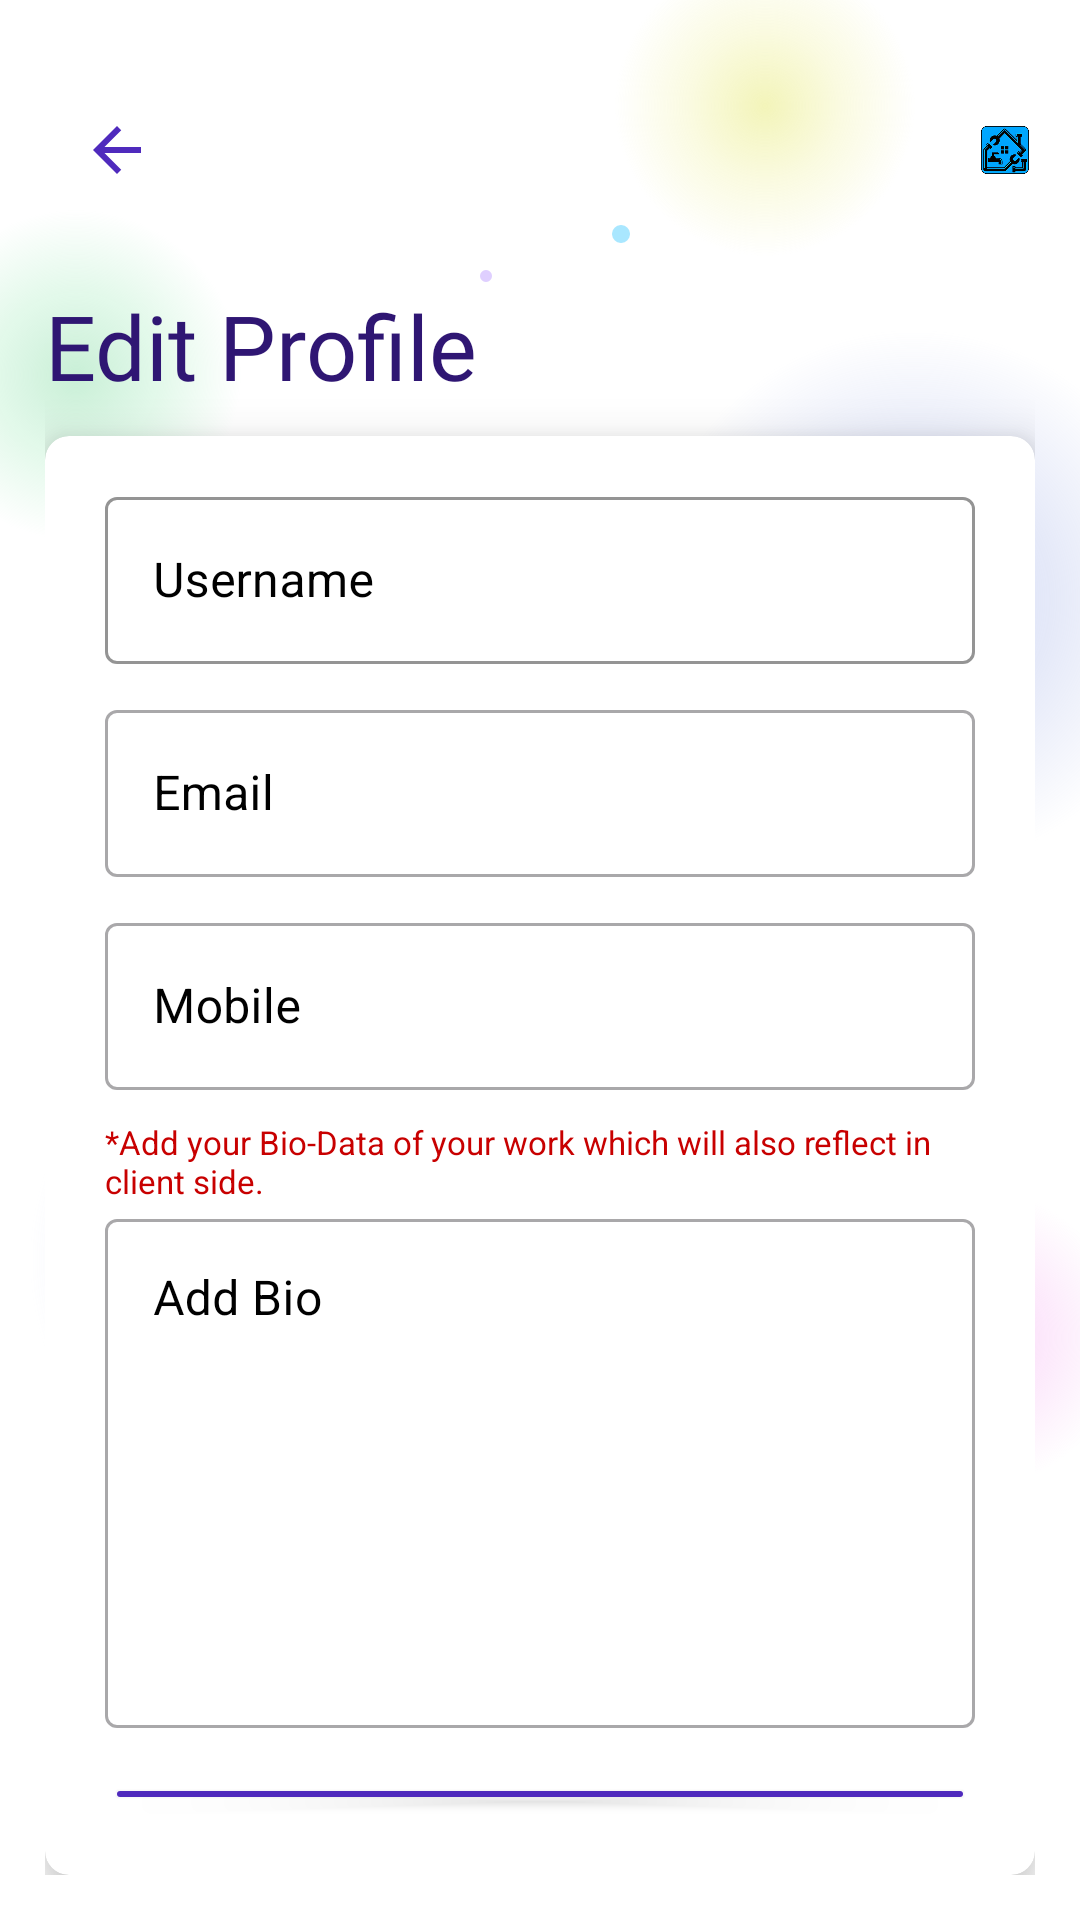

Where to tap for icons on this 1080 × 1920 app screen, as (x=x, y=y):
back arrow: (x=117, y=150)
